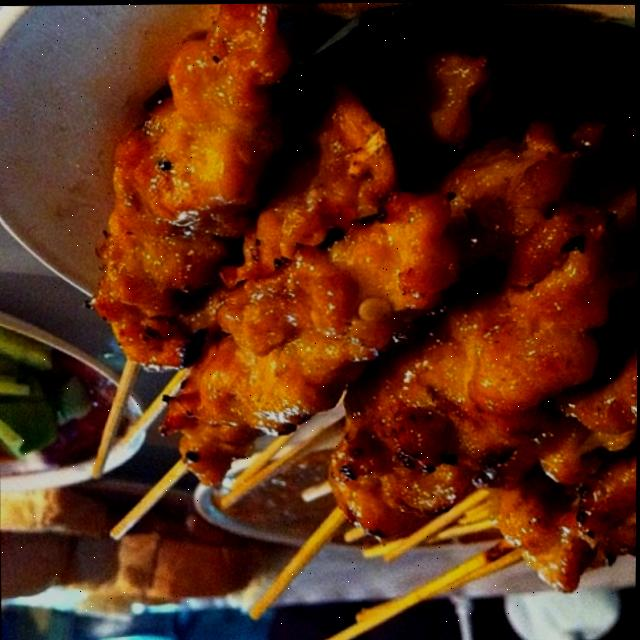牛肉菜式: (73, 0, 640, 606)
